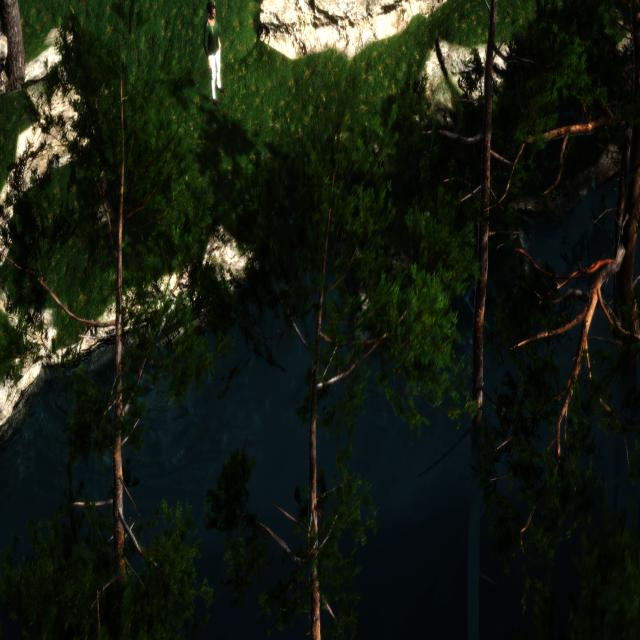Human: (198, 0, 223, 105)
